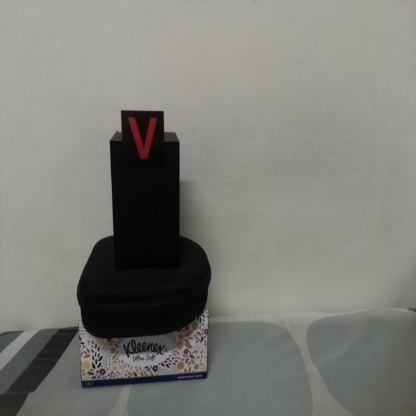id_11: (121, 111, 165, 169)
